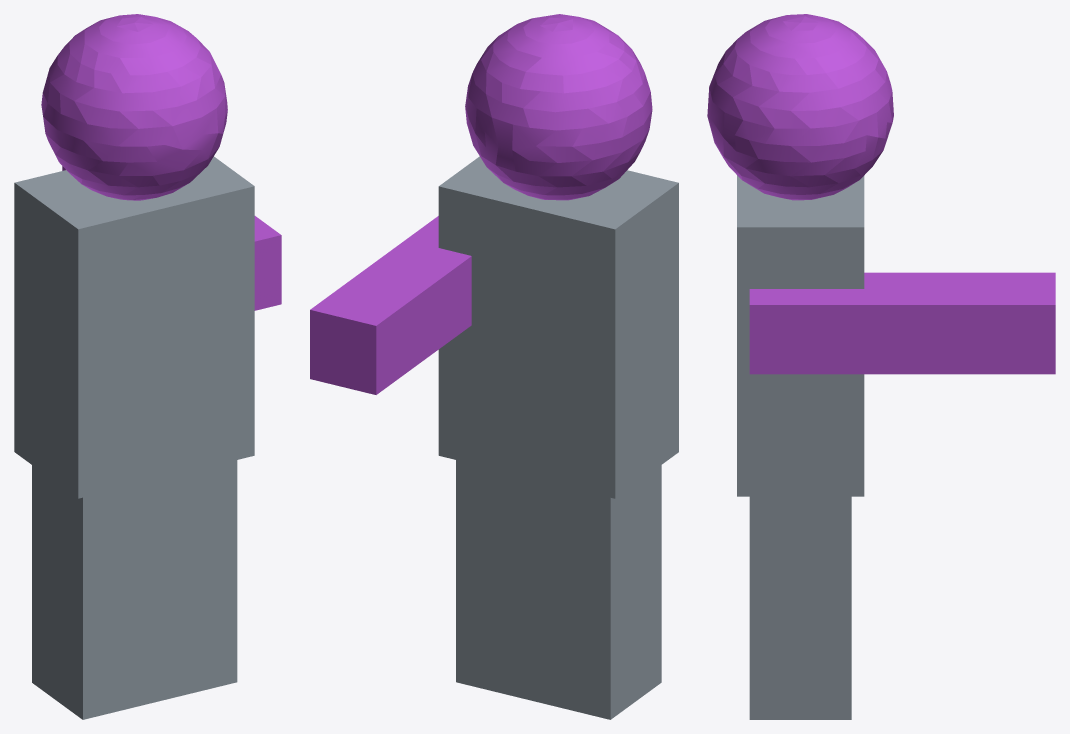
The model's file is CH_CausalityEngineer_LOD1.glb.
3 renders of one model, left to right at view 1: azimuth 30°, elevation 25°; view 2: azimuth 150°, elevation 25°; view 3: azimuth 270°, elevation 25°, orthographic.
Parts seen in each view (by area): view 1: Head; view 2: Head; view 3: Head.
Boxes of the visible parts, x1,y1,x2,y2 form: Head: [14, 14, 281, 719]; Head: [310, 14, 678, 719]; Head: [707, 14, 1055, 719].
Bounding box in the file's own units: 57 × 171 × 81.99.
